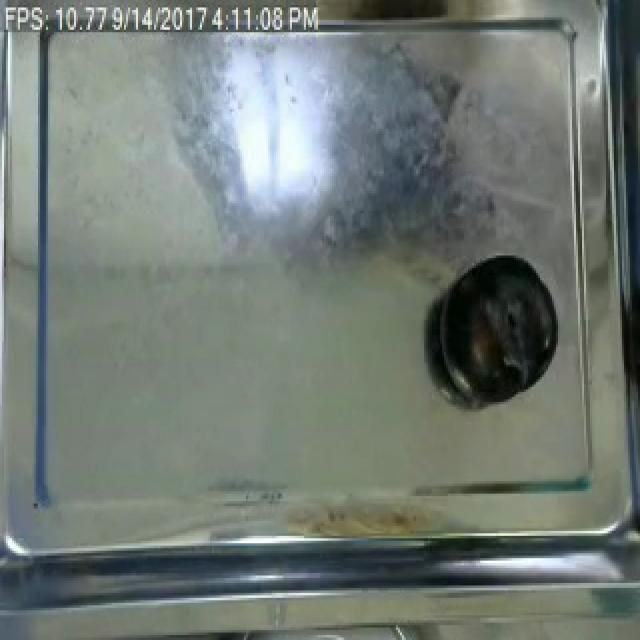Fruit: (438, 250, 560, 402)
